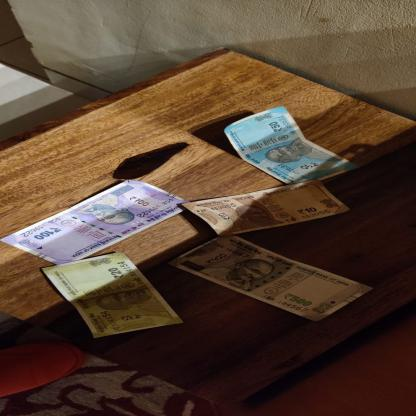New100Front: (0, 179, 192, 265)
New10Front: (179, 179, 352, 236)
New20Front: (41, 252, 185, 340)
New500Front: (166, 235, 375, 322)
New50Front: (224, 106, 362, 185)
